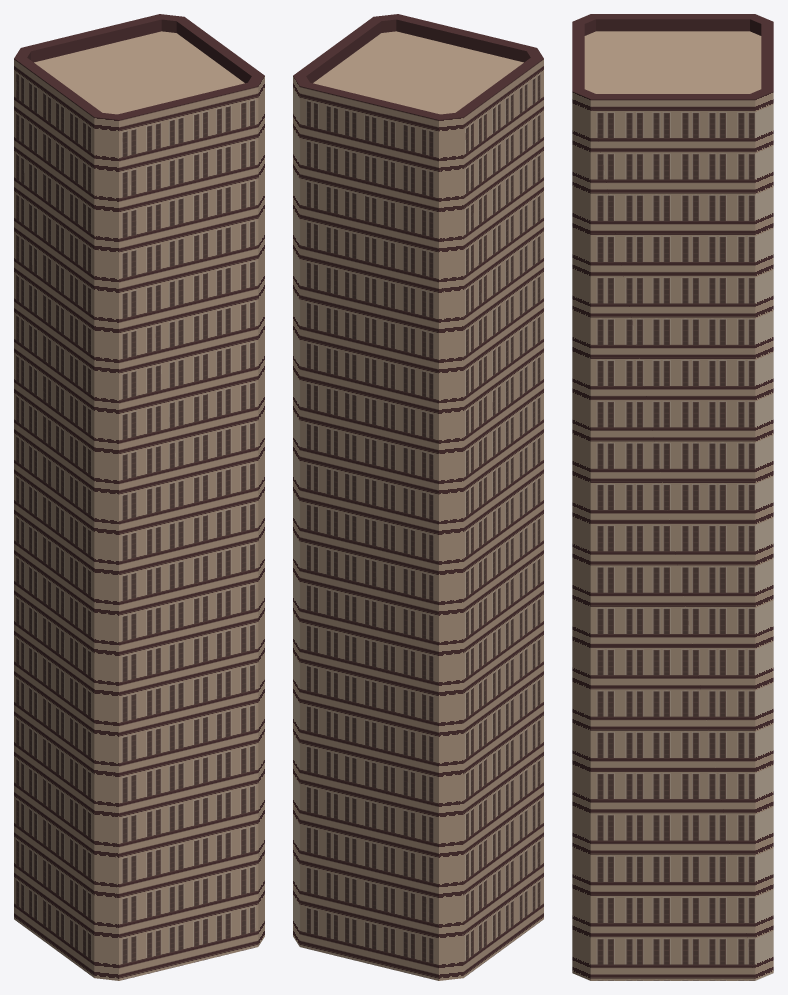
The model's file is mdl_bg_building.fbx.
3 renders of one model, left to right at view 1: azimuth 30°, elevation 25°; view 2: azimuth 150°, elevation 25°; view 3: azimuth 270°, elevation 25°, orthographic. The views are drawn at different scales.
Parts seen in each view (by area): view 1: Cube.001; view 2: Cube.001; view 3: Cube.001.
Part boxes in pixels (<box>): Cube.001: <box>14,14,264,980</box>; Cube.001: <box>293,14,543,980</box>; Cube.001: <box>572,14,773,980</box>.
Size of the model in its own units: 25 by 121 by 25.
